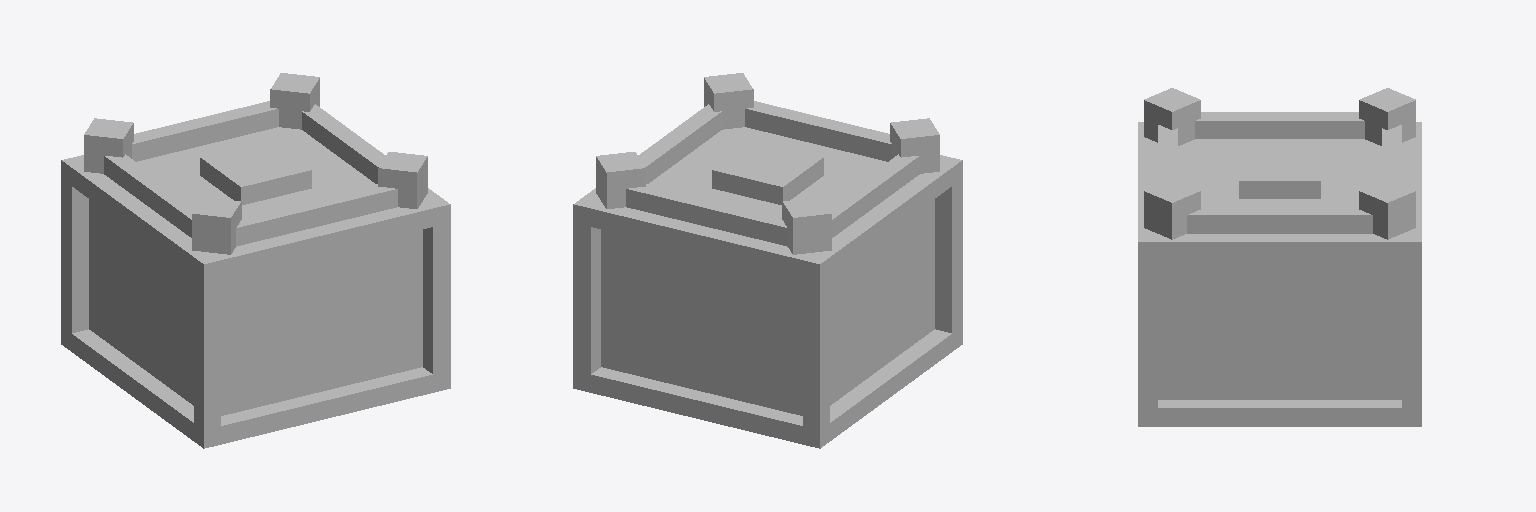
Rendered from crafting_injector.obj.
3 views of the same model, side by side, from view 1: azimuth 30°, elevation 25°; view 2: azimuth 150°, elevation 25°; view 3: azimuth 270°, elevation 25° (orthographic).
Parts seen in each view (by area): view 1: BaseCore, Base2, Base0, TopCentre, TopBaseS, BaseCornerSE, TopBaseN, BaseCornerNW, BaseCornerSW, TopBaseW, TopBaseE, TopC0SW (+3 smaller); view 2: BaseCore, Base2, Base0, TopCentre, TopBaseN, BaseCornerNE, TopBaseS, BaseCornerSW, BaseCornerNW, TopBaseW, TopBaseE, TopC0NW (+3 smaller); view 3: BaseCore, Base2, Base0, TopBaseE, TopBaseW, TopCentre, BaseCornerNE, BaseCornerSE, TopC0NE, TopC0SE, TopC0NW, TopC0SW (+2 smaller).
Part boxes in pixels (bbox=[...]): BaseCore: bbox=[89, 199, 422, 415]; Base2: bbox=[61, 127, 450, 282]; Base0: bbox=[61, 326, 450, 448]; TopCentre: bbox=[200, 140, 311, 204]; TopBaseS: bbox=[236, 184, 397, 246]; BaseCornerSE: bbox=[423, 223, 450, 373]; TopBaseN: bbox=[132, 101, 278, 161]; BaseCornerNW: bbox=[61, 179, 88, 333]; BaseCornerSW: bbox=[194, 276, 220, 429]; TopBaseW: bbox=[104, 154, 195, 237]; TopBaseE: bbox=[302, 104, 385, 183]; TopC0SW: bbox=[192, 197, 241, 254]; BaseCore: bbox=[601, 199, 934, 415]; Base2: bbox=[573, 127, 962, 282]; Base0: bbox=[573, 326, 962, 448]; TopCentre: bbox=[712, 140, 823, 204]; TopBaseN: bbox=[626, 184, 787, 246]; BaseCornerNE: bbox=[573, 223, 600, 373]; TopBaseS: bbox=[745, 101, 891, 161]; BaseCornerSW: bbox=[935, 179, 962, 333]; BaseCornerNW: bbox=[803, 276, 829, 429]; TopBaseW: bbox=[828, 154, 919, 237]; TopBaseE: bbox=[638, 104, 721, 183]; TopC0NW: bbox=[782, 197, 831, 254]; BaseCore: bbox=[1158, 261, 1401, 399]; Base2: bbox=[1138, 122, 1421, 260]; Base0: bbox=[1138, 400, 1421, 426]; TopBaseE: bbox=[1187, 207, 1372, 233]; TopBaseW: bbox=[1195, 112, 1364, 138]; TopCentre: bbox=[1239, 147, 1320, 198]; BaseCornerNE: bbox=[1402, 261, 1421, 407]; BaseCornerSE: bbox=[1138, 261, 1157, 407]; TopC0NE: bbox=[1359, 179, 1415, 239]; TopC0SE: bbox=[1144, 179, 1200, 239]; TopC0NW: bbox=[1359, 88, 1415, 145]; TopC0SW: bbox=[1144, 88, 1200, 145].
Bounding box in the file's own units: 0.875 × 0.75 × 0.875.